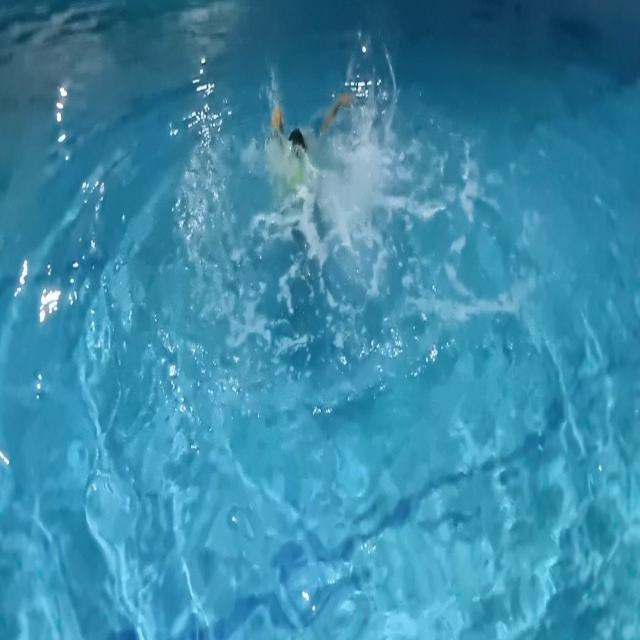Drowning: (237, 52, 436, 288)
